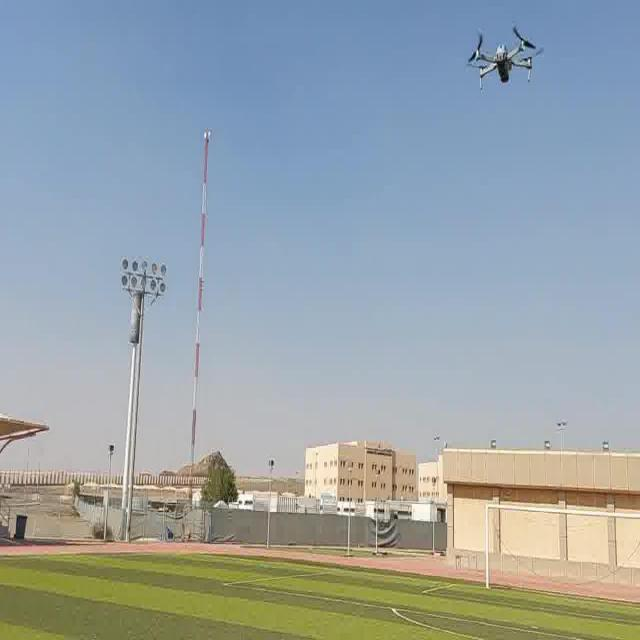drone: (463, 30, 546, 101)
